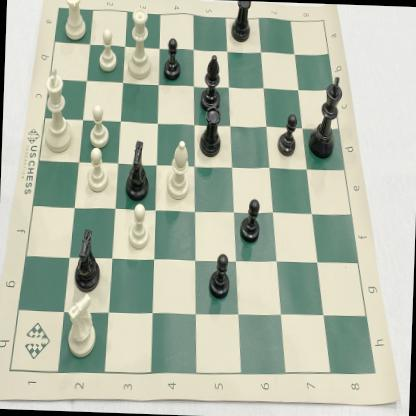bishop: (162, 135, 194, 207), (197, 46, 226, 116)
king: (308, 70, 346, 164), (40, 64, 78, 156)
knight: (64, 290, 100, 363), (70, 224, 105, 294), (124, 136, 152, 204)
pawn: (124, 198, 154, 254), (206, 246, 235, 302), (83, 145, 112, 197), (236, 195, 262, 248), (86, 101, 112, 151), (95, 25, 121, 74), (276, 108, 300, 160), (160, 34, 184, 84)
queen: (124, 4, 155, 84)
rook: (196, 106, 226, 162), (59, 0, 93, 47), (228, 1, 258, 47)
